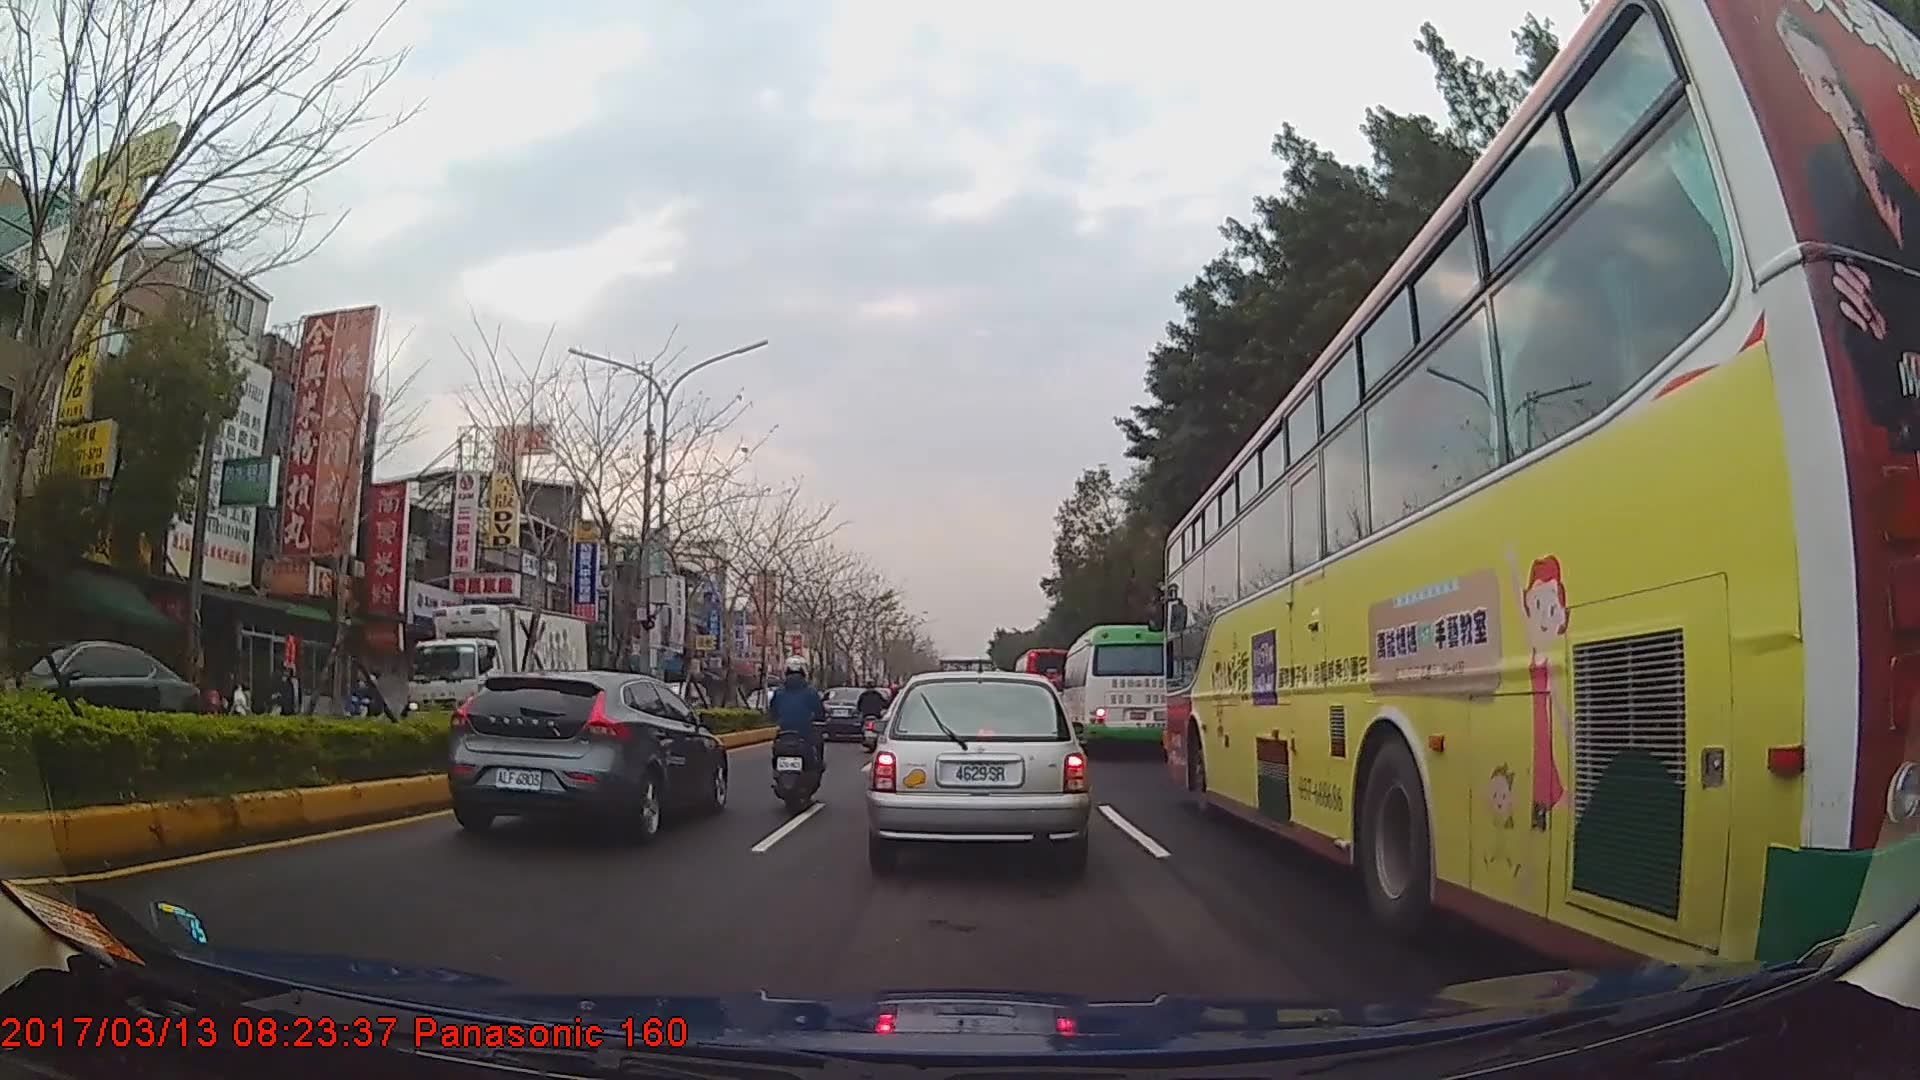rider: (768, 656, 832, 802), (858, 681, 890, 750), (342, 675, 382, 723), (268, 669, 295, 719)
vehicle: (1163, 0, 1920, 1022), (445, 667, 729, 844), (867, 674, 1089, 877), (404, 604, 589, 750), (0, 640, 202, 773), (1058, 624, 1175, 756), (1012, 644, 1076, 716), (816, 685, 878, 742)
